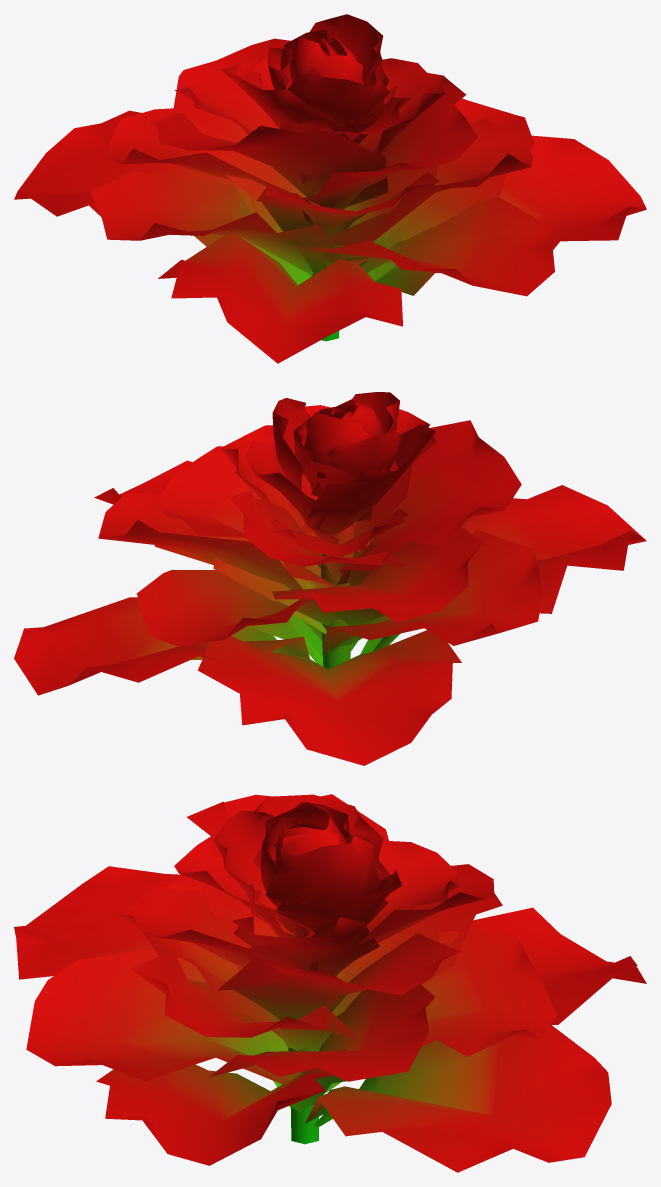
File: Purple Ornamental Kale_LOD2_Var5_ugdieawja.fbx
3 views of the same model, one above another, from view 1: azimuth 30°, elevation 25°; view 2: azimuth 150°, elevation 25°; view 3: azimuth 270°, elevation 25° (orthographic). The views are drawn at different scales.
Visible parts, largest first — view 1: _62f0_Var5_LOD2; view 2: _62f0_Var5_LOD2; view 3: _62f0_Var5_LOD2.
Part boxes in pixels (box(x1,y1,x2,y2)): _62f0_Var5_LOD2: box(14, 14, 646, 363); _62f0_Var5_LOD2: box(14, 392, 646, 765); _62f0_Var5_LOD2: box(14, 794, 646, 1172).
Size of the model in its own units: 42.75 by 25.15 by 44.54.
